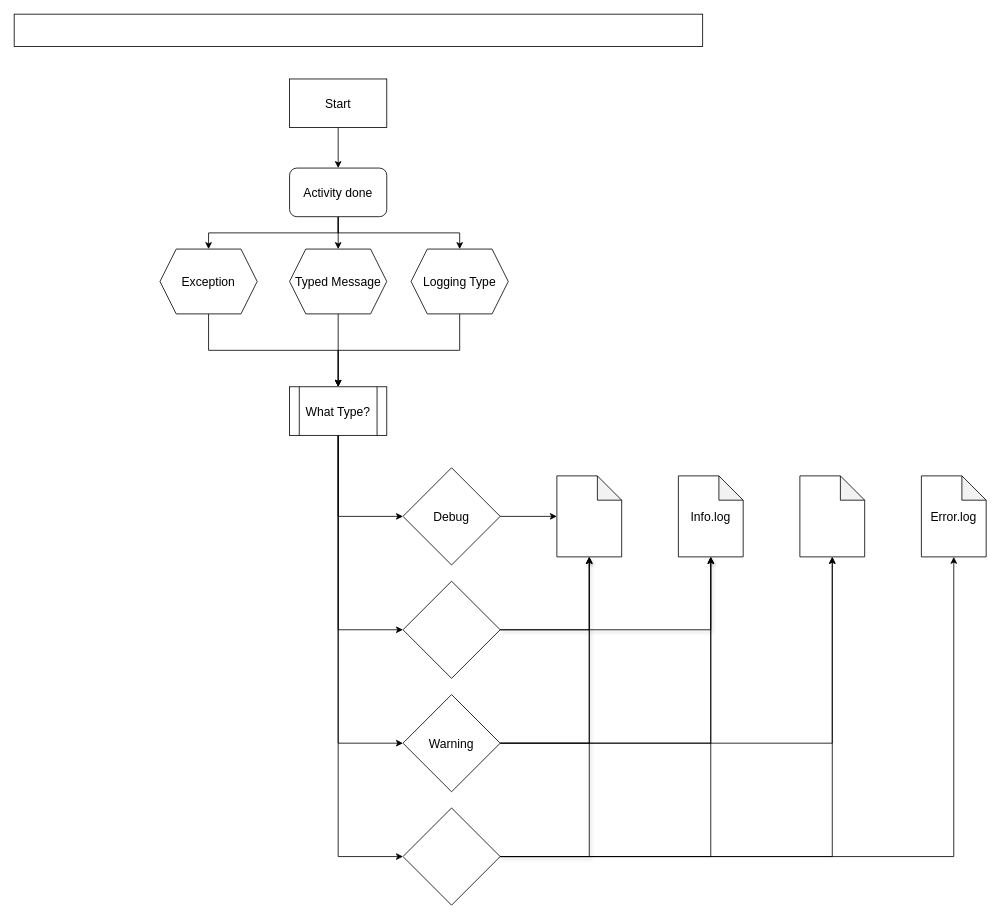
Some shapes in this 1000 by 919 pixel diagram are drawn without their labels. The centre of each missing label's shape, as x and y in pixels:
"Debug.log" goes at point (589, 516).
"Error" goes at point (451, 856).
"Info" goes at point (451, 629).
"Logging Diagram - Karibak" goes at point (358, 30).
"Warning.log" goes at point (832, 516).
